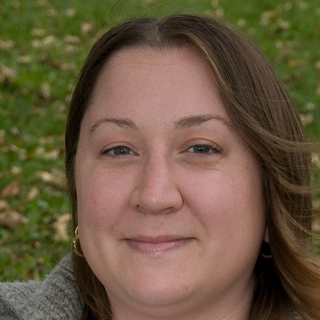eye: (176, 139, 226, 163), (96, 139, 144, 164)
